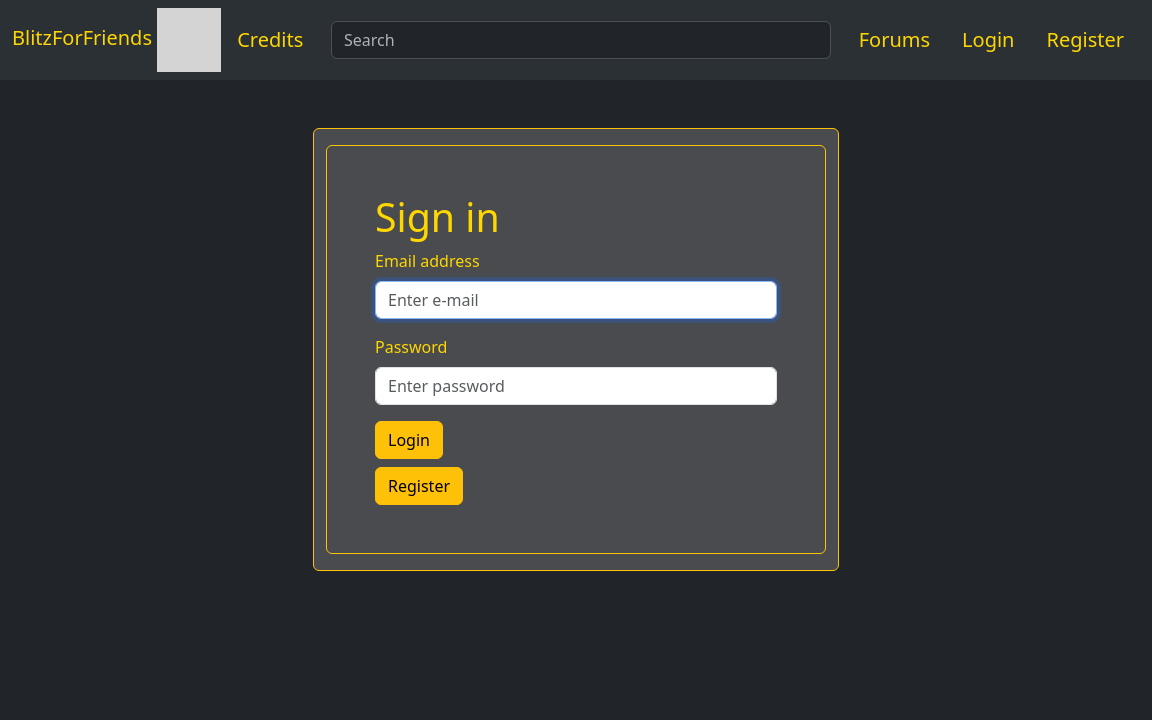
it: Login › should display email validation message when email is invalid
The image size is (1152, 720).
Type "invalidemail" into the field with id "email".
click(576, 300); type("invalidemail")  # box [375,281,777,319]
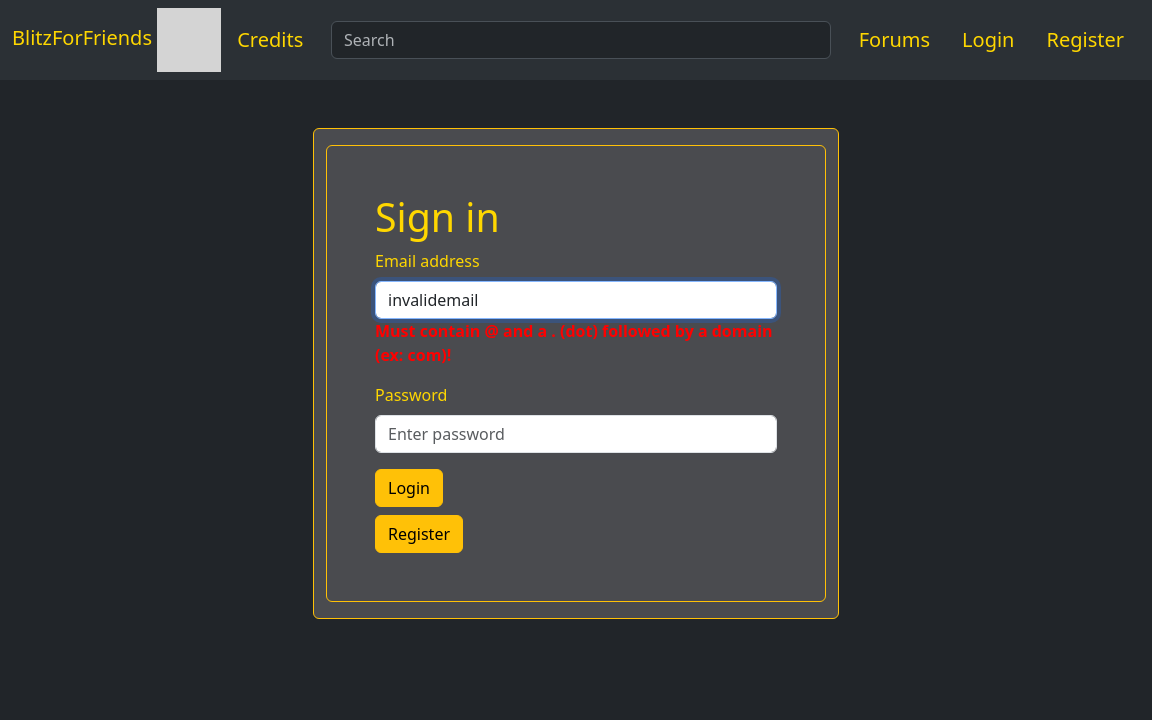
Result: the text "Must contain @ and a . (dot) followed by a domain" is shown at [375,320,773,366]
